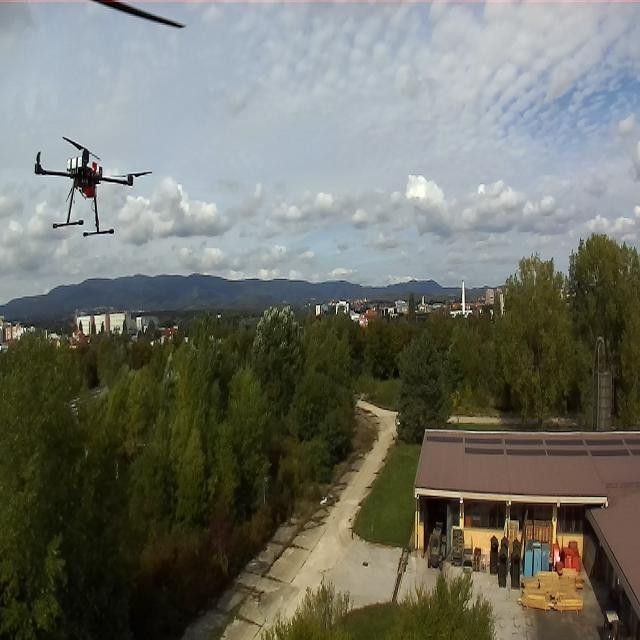UAV: (17, 130, 161, 235)
